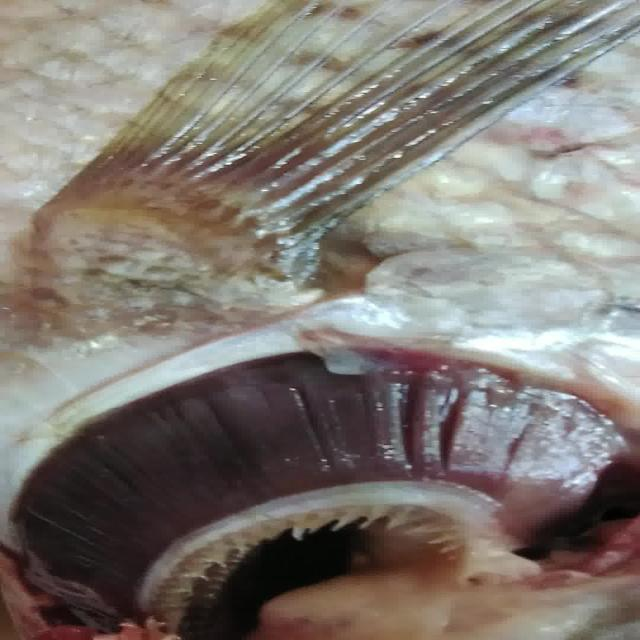Non-Fresh: (30, 342, 622, 617)
